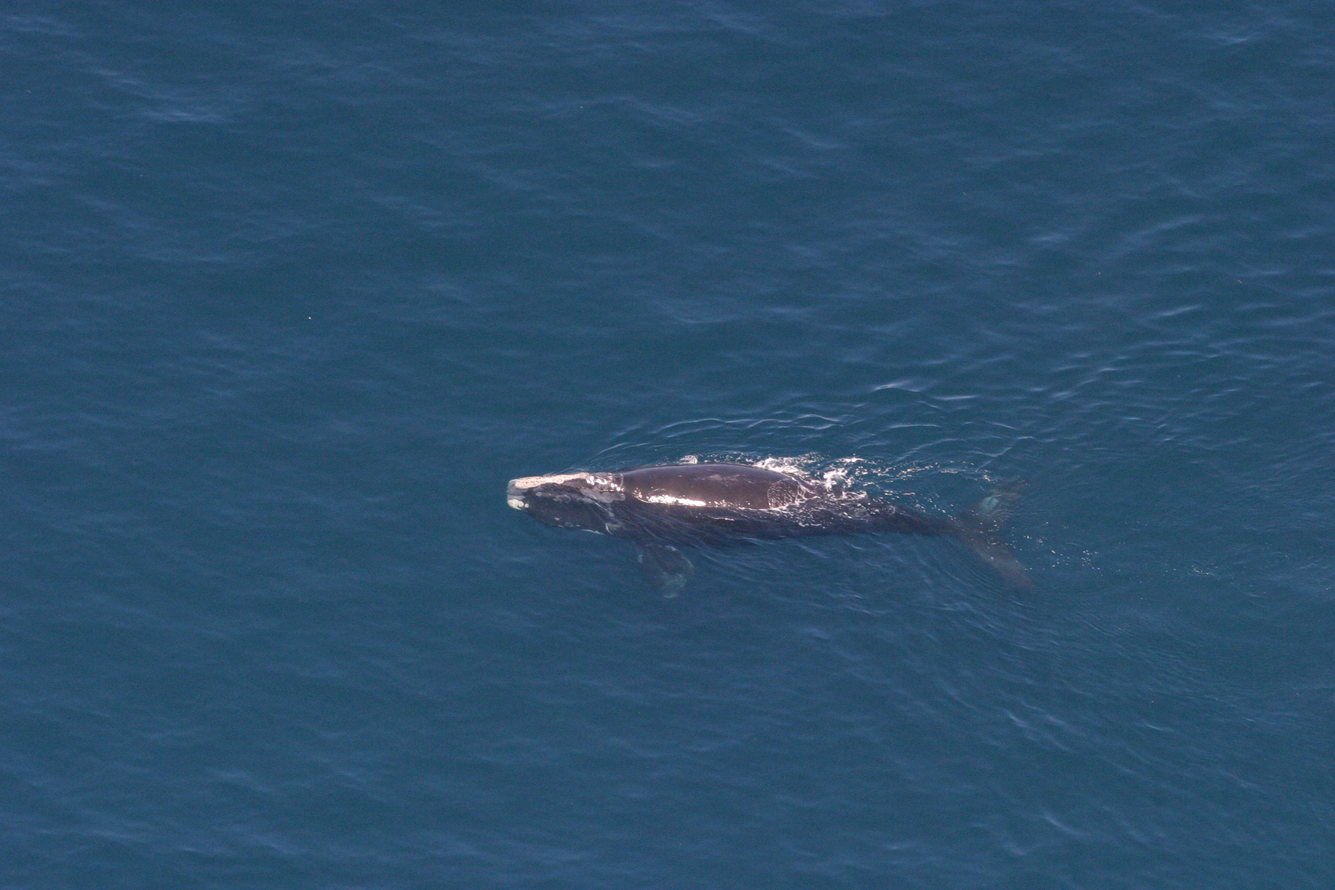whale: (502, 448, 1053, 609)
